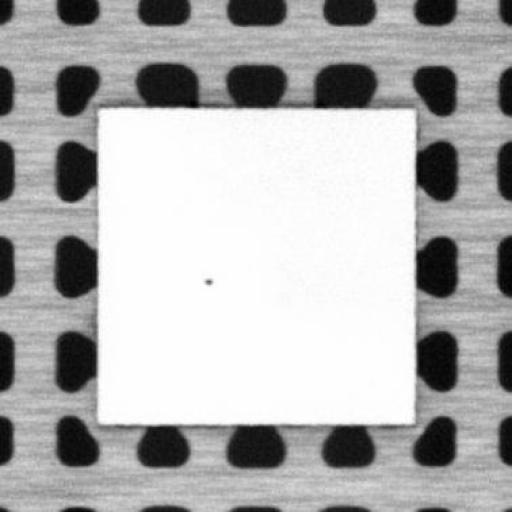DIE_INK: (199, 272, 215, 288)
